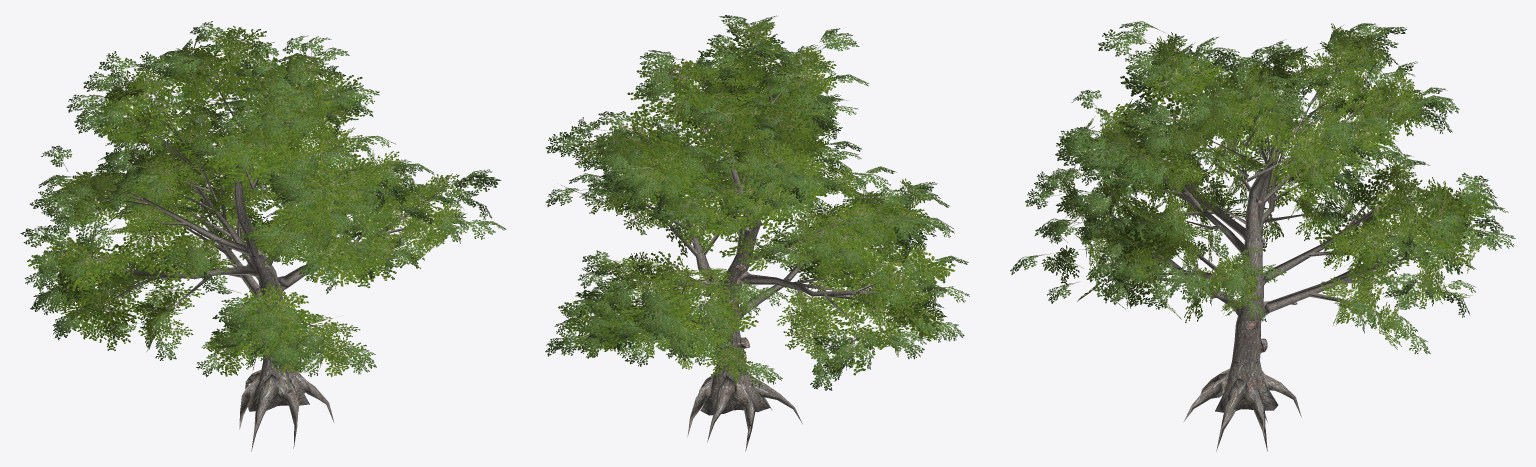
Rendered from garden-tree-near.glb.
3 views of the same model, side by side, from view 1: azimuth 30°, elevation 25°; view 2: azimuth 150°, elevation 25°; view 3: azimuth 270°, elevation 25° (orthographic). The views are drawn at different scales.
Visible parts, largest first — view 1: Broadleaf alpha foliage, Refined broadleaf trunk; view 2: Broadleaf alpha foliage, Refined broadleaf trunk; view 3: Broadleaf alpha foliage, Refined broadleaf trunk.
Part boxes in pixels (x1,y1,x2,y2): Broadleaf alpha foliage: (20,21,505,377); Refined broadleaf trunk: (81,49,450,451); Broadleaf alpha foliage: (545,15,969,390); Refined broadleaf trunk: (604,49,902,451); Broadleaf alpha foliage: (1010,21,1515,353); Refined broadleaf trunk: (1079,52,1453,451).
Size of the model in its own units: 10.39 by 8.56 by 9.97.
Materials: 2 (2 with a texture image).
